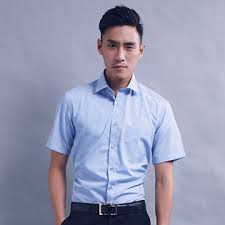F_shirt: (45, 69, 187, 202)
